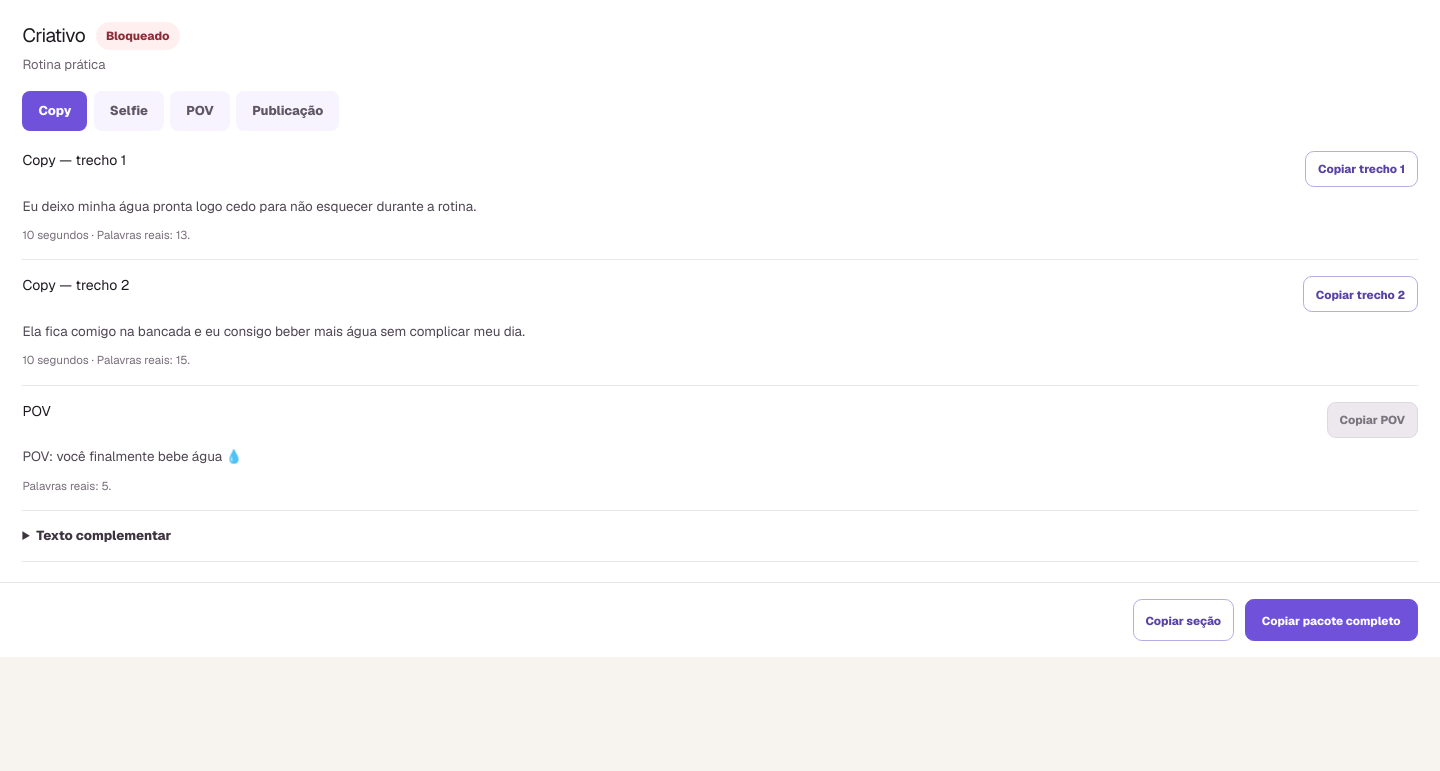
Test: ResultCard › blocks POV subfields without blocking another copy field
Expected: the button "Copiar POV" is disabled, [1327,402,1418,438]
Click the tab "Publicação": (288, 111) [236,91,339,131]
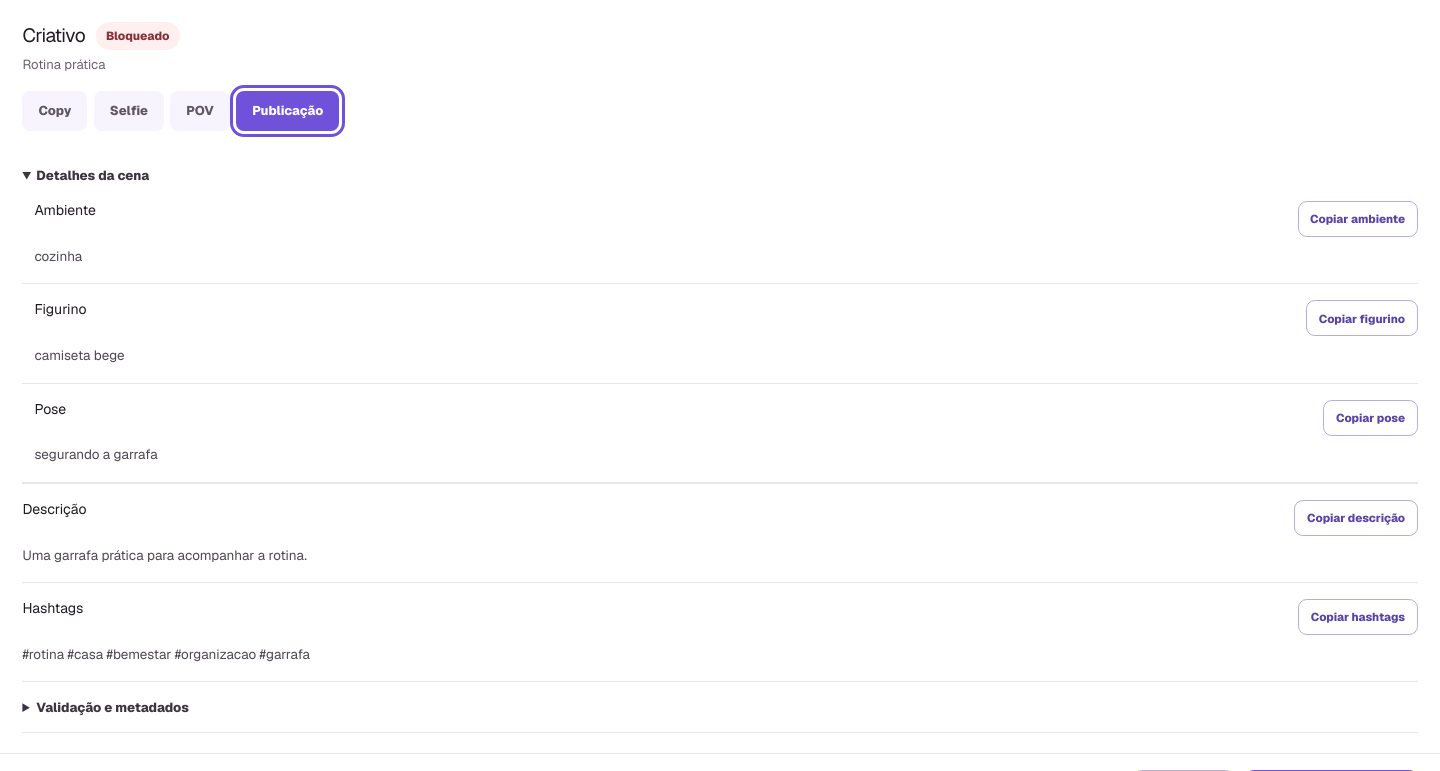
Result: the button "Copiar descrição" is enabled at [1294,500,1418,536]
